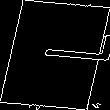L_W: (11, 36, 99, 74)
